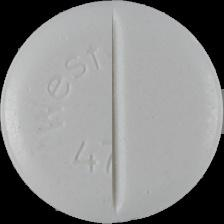50090-0095: (0, 0, 224, 224)
